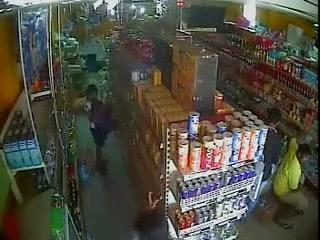shoplifting: (90, 100, 124, 134)
